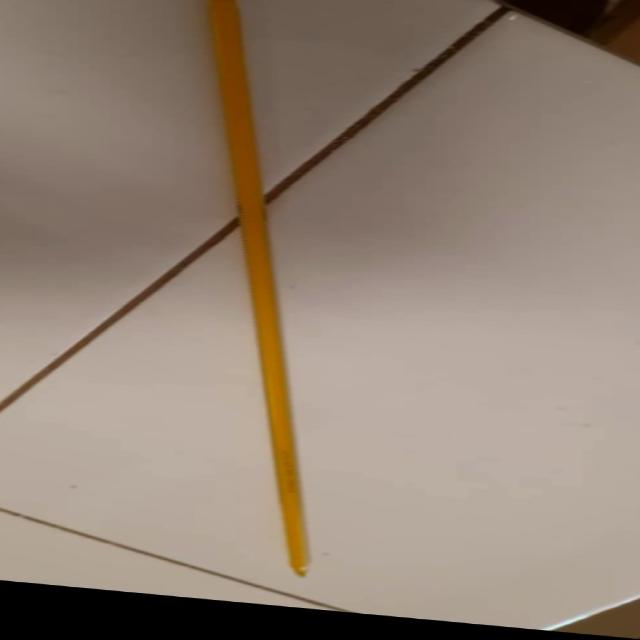Thermometer: (198, 0, 336, 581)
